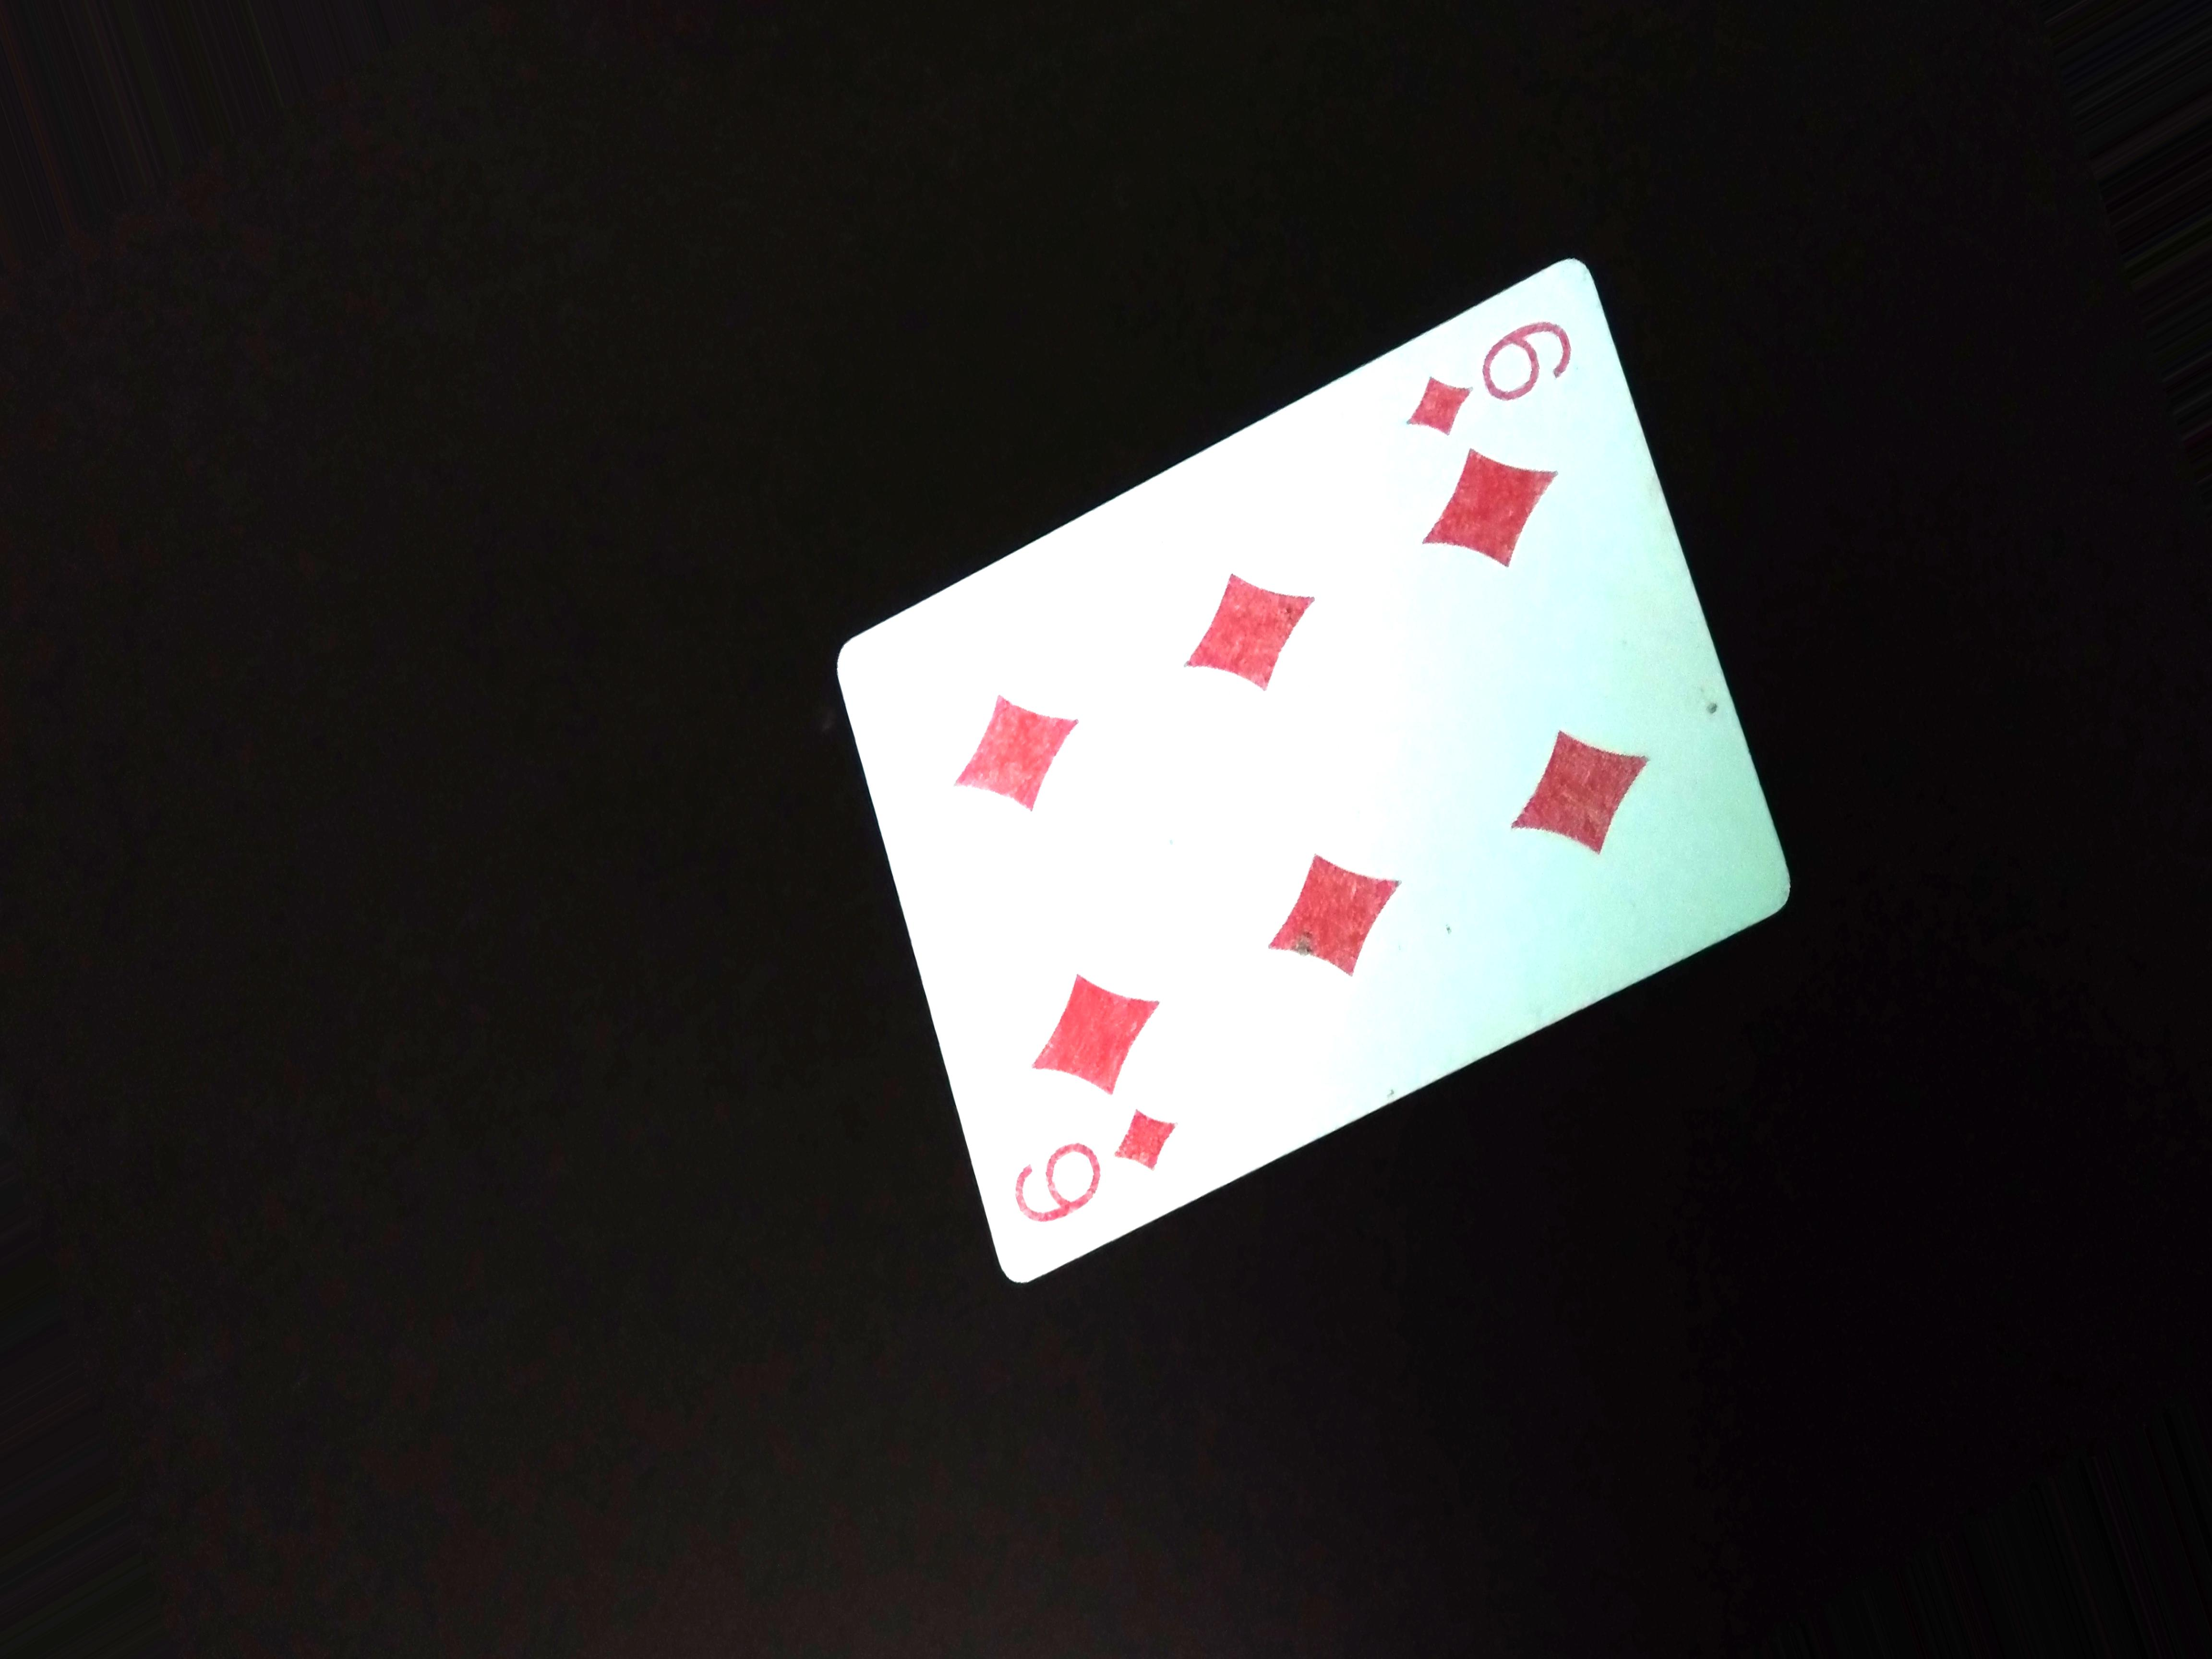6D: (1010, 1101, 1176, 1237)
